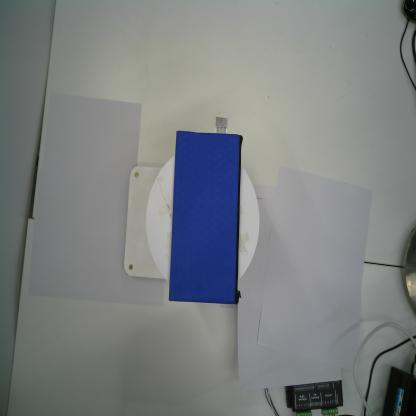Stationery: (165, 114, 242, 305)
